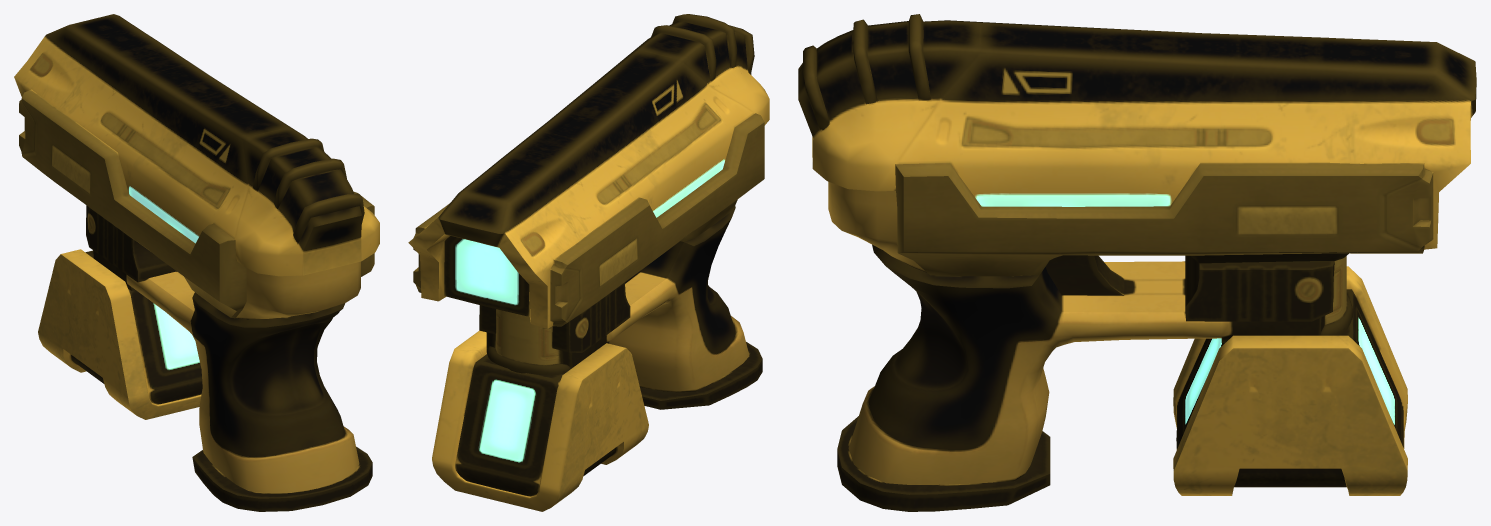
The model's file is IG_Gun_ArcadeGun.fbx.
3 views of the same model, side by side, from view 1: azimuth 30°, elevation 25°; view 2: azimuth 150°, elevation 25°; view 3: azimuth 270°, elevation 25° (orthographic). The views are drawn at different scales.
Visible parts, largest first — view 1: GunModel; view 2: GunModel; view 3: GunModel.
Boxes of the visible parts, left/top/right/bottom form: GunModel: left=14, top=14, right=379, bottom=511; GunModel: left=408, top=14, right=769, bottom=511; GunModel: left=798, top=14, right=1476, bottom=511.
Bounding box in the file's own units: 0.189 × 0.3914 × 0.5451.
